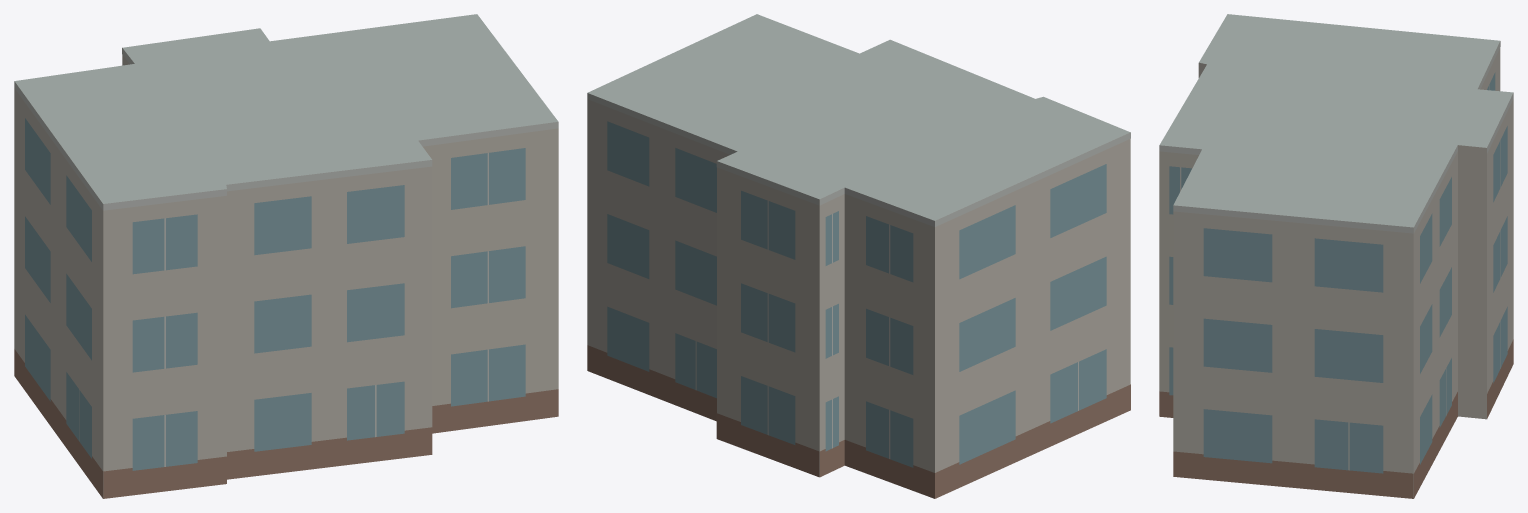
File: survey-upis-32490312.glb
3 renders of one model, left to right at view 1: azimuth 30°, elevation 25°; view 2: azimuth 150°, elevation 25°; view 3: azimuth 270°, elevation 25°, orthographic. The views are drawn at different scales.
Parts seen in each view (by area): view 1: survey-upis-32490312.tmp; view 2: survey-upis-32490312.tmp; view 3: survey-upis-32490312.tmp.
Boxes of the visible parts, x1,y1,x2,y2 form: survey-upis-32490312.tmp: (14,14,558,498); survey-upis-32490312.tmp: (587,14,1130,498); survey-upis-32490312.tmp: (1159,14,1513,498).
Size of the model in its own units: 18.23 by 10.8 by 12.79.
